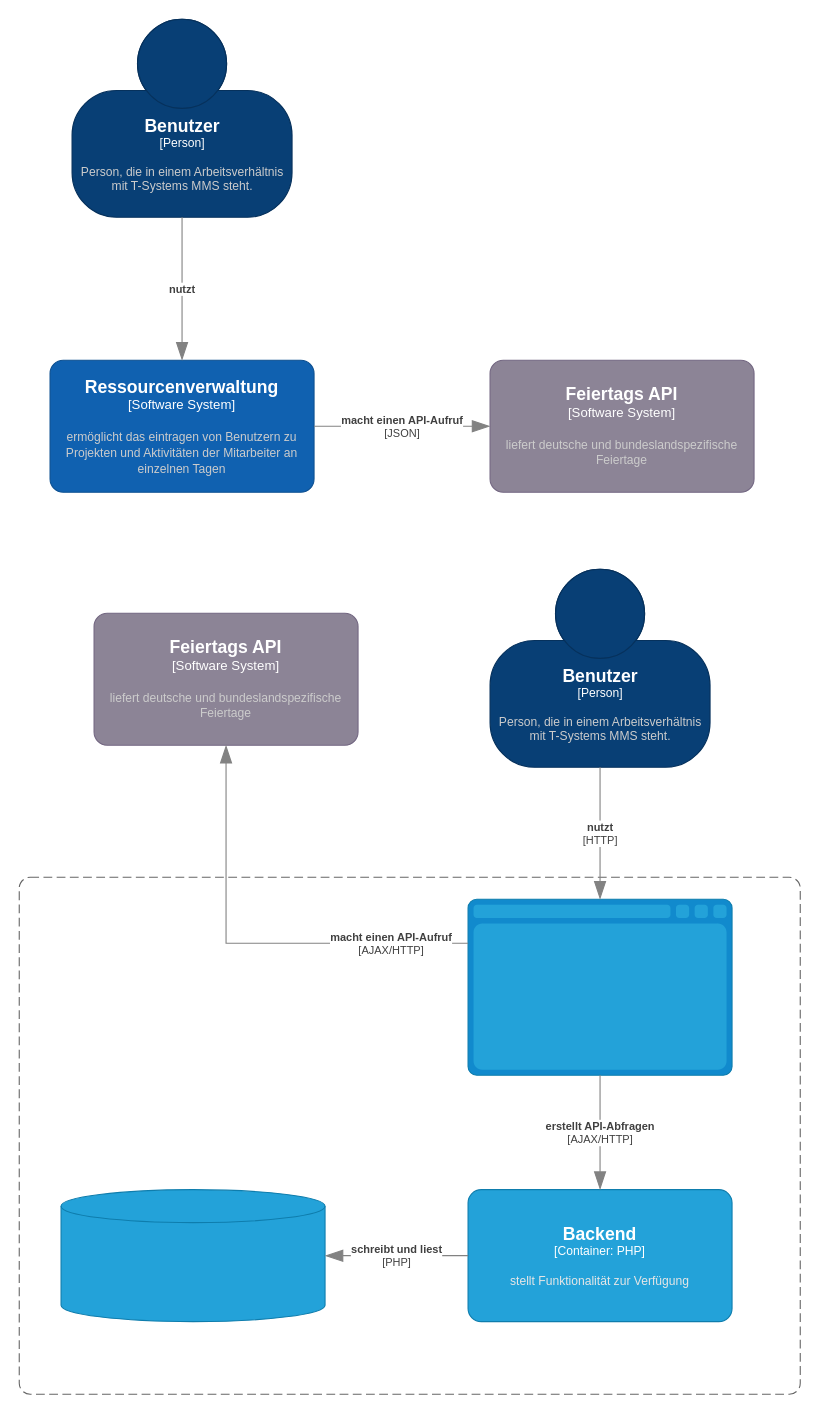
This 820x1414 diagram has some shape labels left out. The shapes that lost their labels are listed below. From the top down, each one's box as (x1, y1, x2, y2) in pixels, then its label:
(467, 898, 732, 1075): Webbrowser [Container: JavaScript] stellt User-Interface zur Verfügung
(18, 876, 800, 1394): Ressourcenverwaltung [Software System]
(60, 1189, 325, 1322): Datenbank [Container: Maria DB] Speichert Datenbankobjekte
